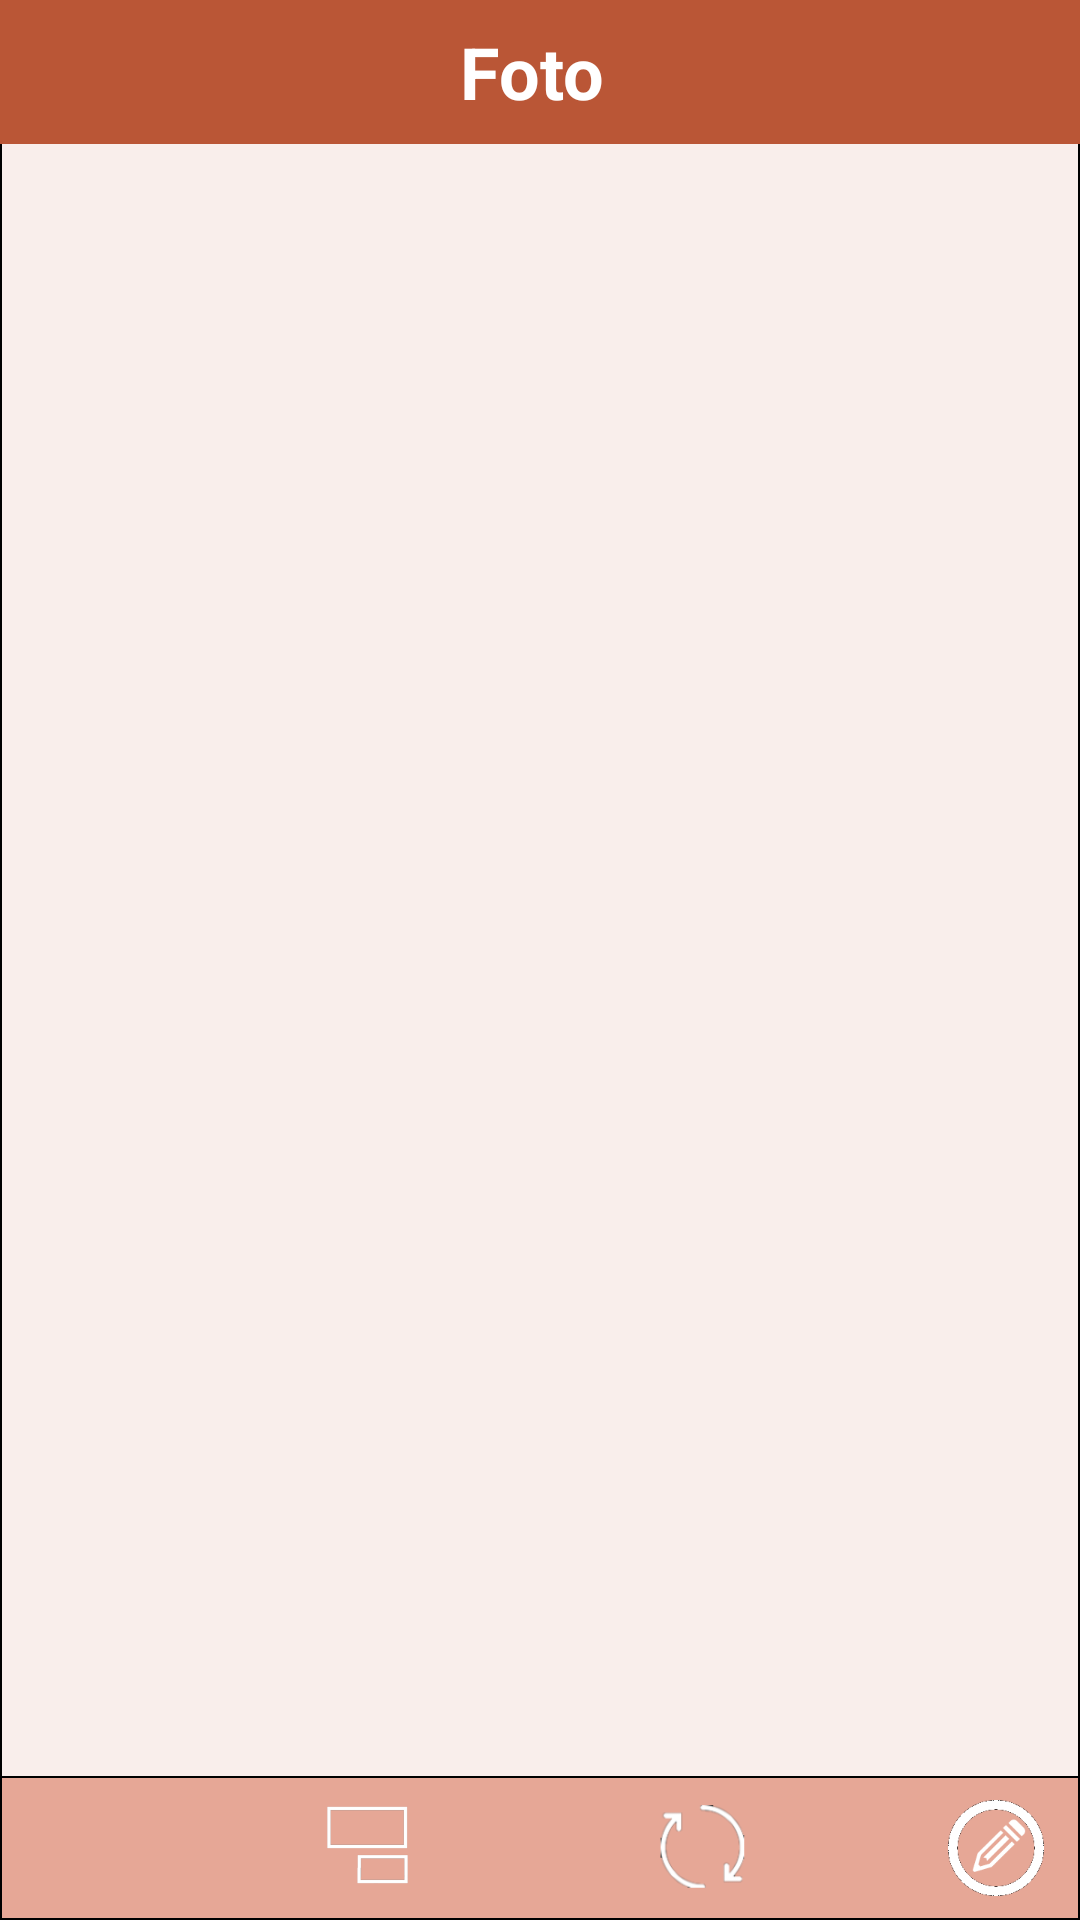

Icon click points for this 1080px×1920px phone screenshot, format [x,y]:
edit: [996,1848]
